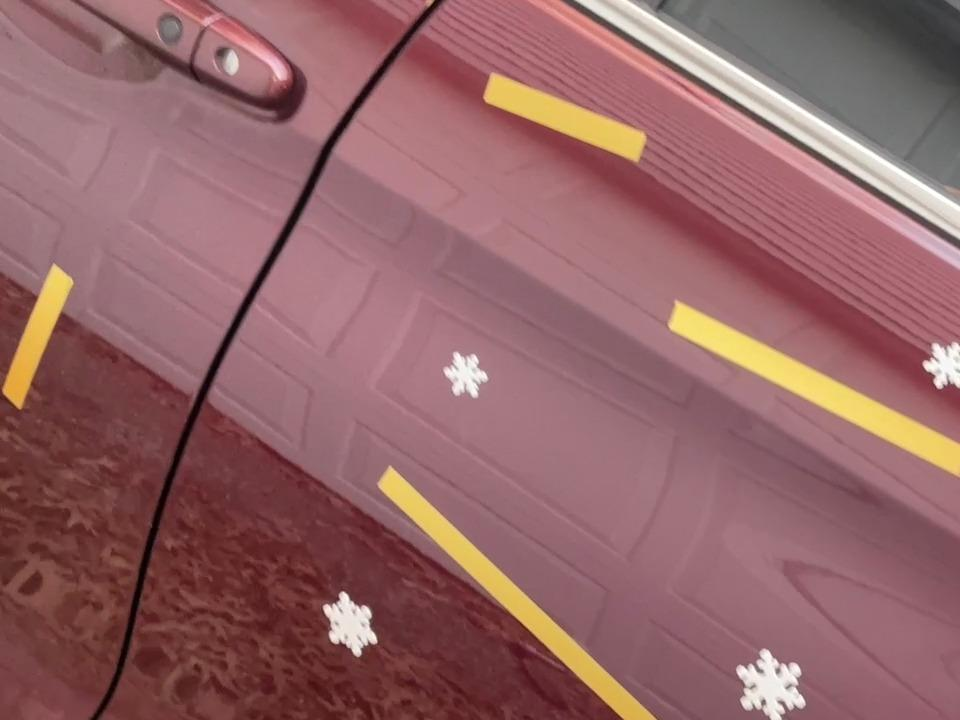dent: (731, 643, 805, 720), (321, 586, 390, 667), (431, 341, 504, 404), (921, 326, 960, 401)
scratch: (368, 456, 729, 720), (666, 291, 960, 488), (471, 61, 659, 175), (1, 259, 83, 417)
